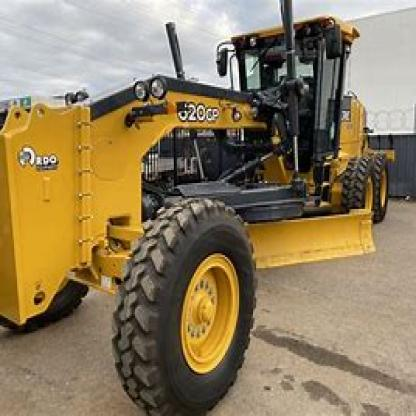bull_dozer/loader/grader: (2, 11, 391, 411)
